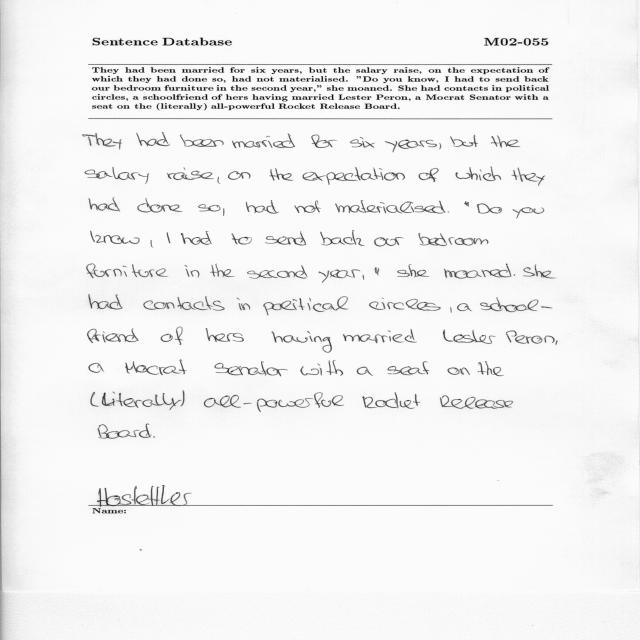word: (244, 392, 344, 412), (98, 485, 192, 505), (303, 167, 405, 185), (263, 296, 348, 316), (102, 391, 185, 411), (335, 200, 445, 214), (272, 331, 332, 353), (143, 296, 225, 311), (87, 264, 168, 278), (214, 362, 288, 377), (85, 167, 149, 184), (480, 298, 552, 313), (343, 329, 417, 343), (440, 395, 513, 409), (444, 264, 511, 279), (363, 392, 420, 409), (232, 134, 295, 149), (369, 298, 441, 311), (125, 360, 187, 375), (419, 233, 489, 246), (247, 265, 308, 279), (98, 424, 151, 439), (443, 329, 495, 344), (320, 230, 365, 246), (88, 329, 139, 343), (300, 360, 343, 376), (91, 230, 140, 244), (82, 133, 122, 150), (385, 140, 437, 153), (138, 198, 183, 213), (506, 331, 555, 344), (456, 167, 501, 181), (512, 167, 545, 186), (265, 231, 306, 246), (167, 167, 214, 180), (319, 269, 361, 283), (388, 362, 430, 376), (180, 134, 224, 147), (205, 328, 244, 342), (89, 295, 123, 310), (204, 395, 241, 408), (136, 133, 170, 147), (89, 197, 120, 212), (246, 200, 279, 214), (523, 265, 556, 279), (181, 231, 212, 245), (397, 265, 429, 278), (161, 327, 183, 345), (478, 361, 504, 376), (491, 135, 520, 148), (311, 134, 337, 148), (513, 208, 545, 219), (294, 201, 321, 214), (450, 135, 478, 147), (269, 168, 294, 181), (210, 264, 235, 277), (374, 237, 404, 247), (419, 168, 439, 182), (350, 137, 375, 148), (477, 203, 502, 214), (231, 234, 252, 245), (228, 171, 250, 180), (185, 265, 200, 278), (447, 367, 470, 375), (237, 298, 250, 310), (198, 204, 220, 211), (89, 363, 104, 373), (357, 367, 373, 376), (457, 304, 472, 312), (91, 392, 99, 406), (375, 267, 380, 276), (167, 233, 170, 244), (464, 201, 469, 207), (218, 177, 221, 184), (151, 240, 154, 247), (223, 208, 225, 216), (439, 143, 441, 149), (450, 307, 452, 313), (363, 275, 365, 280), (556, 341, 558, 346), (514, 274, 516, 276), (153, 436, 155, 438), (448, 212, 449, 213)
